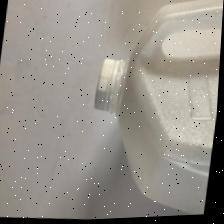plastic: (96, 2, 224, 217)
